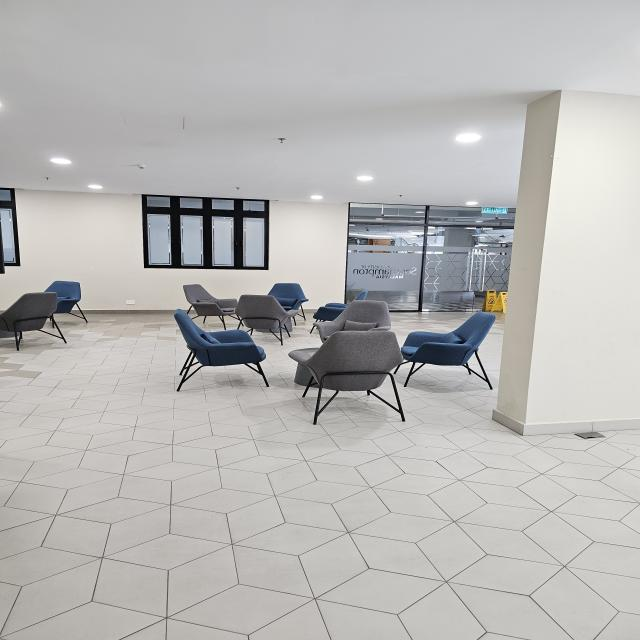footpath: (2, 430, 640, 638)
obstacle: (170, 309, 494, 427)
wall: (489, 89, 640, 444)
